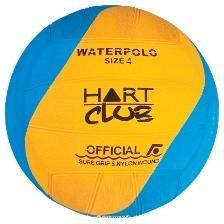Sports-Ball: (5, 2, 219, 216)
